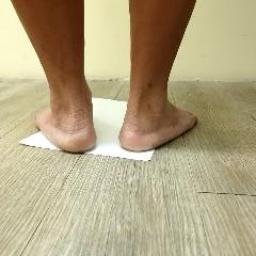Back View -Both Feet-: (18, 65, 212, 165)
